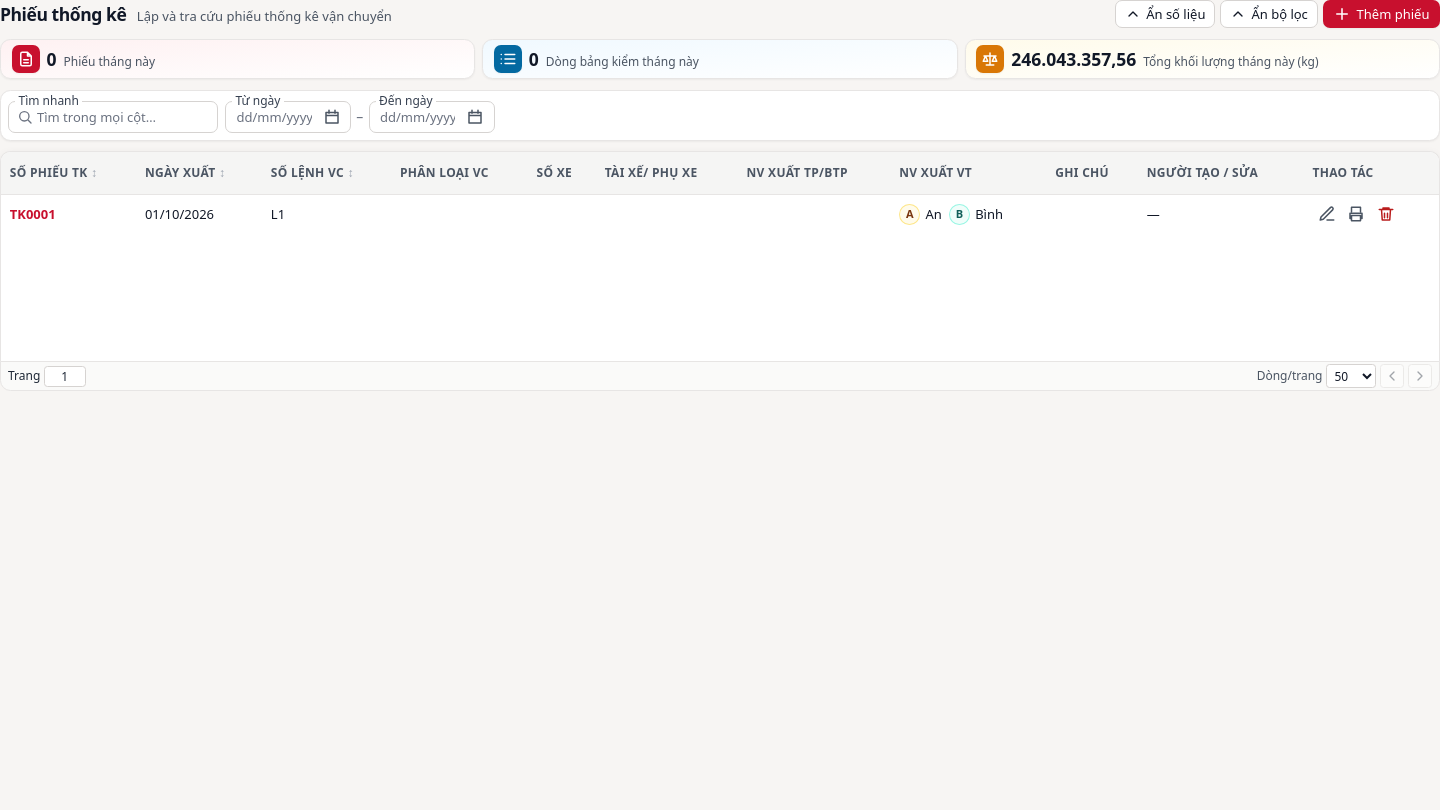
Test: PlansPage › hiện bảng, NV xuất VT nối bằng ", "; Thêm phiếu mở modal có số xem trước
Click the button with test id "add-plan" at (1381, 14), box top-left (1323, 0), bottom-right (1439, 28)
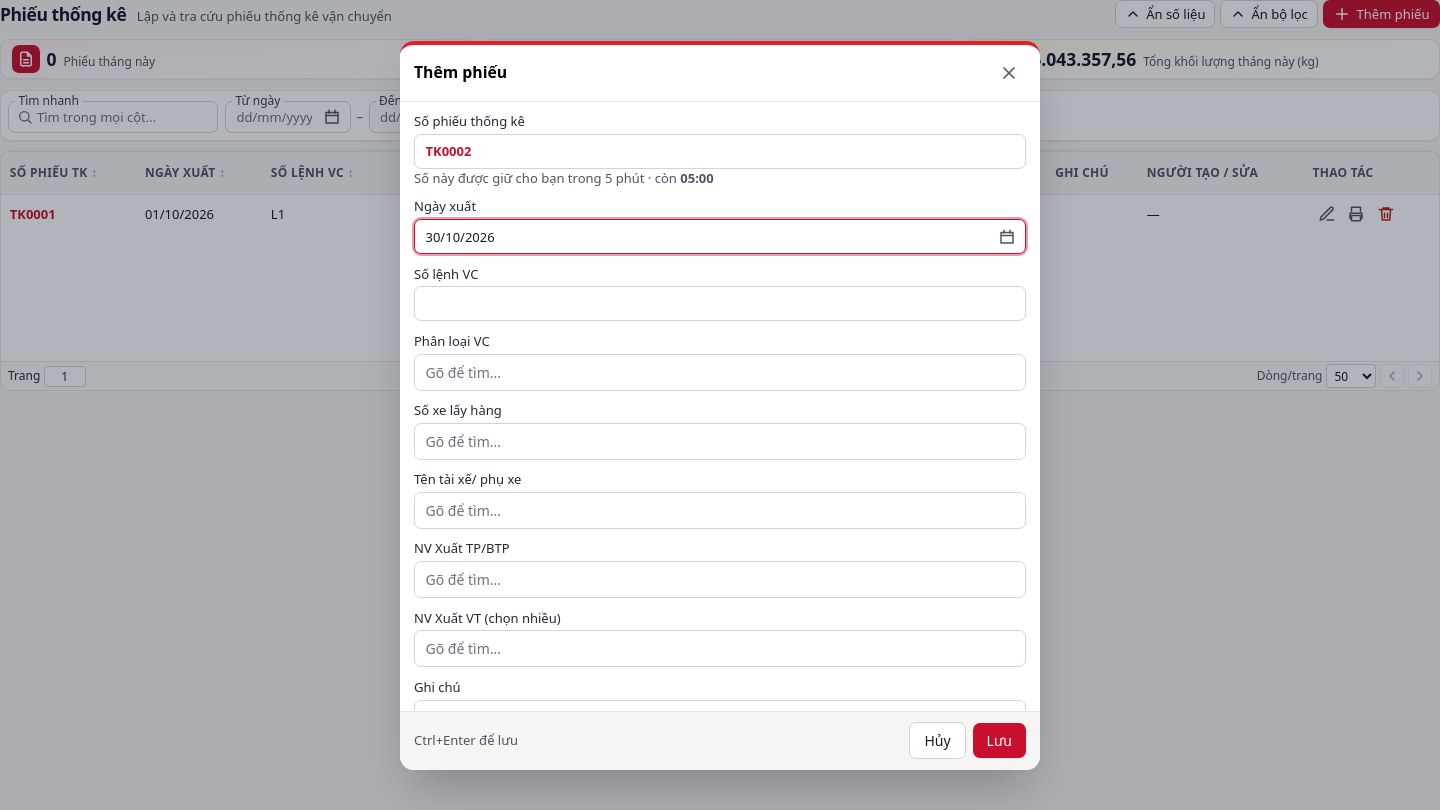
expect the heading "Thêm phiếu" is shown: met, box top-left (414, 60), bottom-right (507, 85)
expect the field with test id "tk-number" holds "TK0002": met, box top-left (414, 134), bottom-right (1026, 169)
